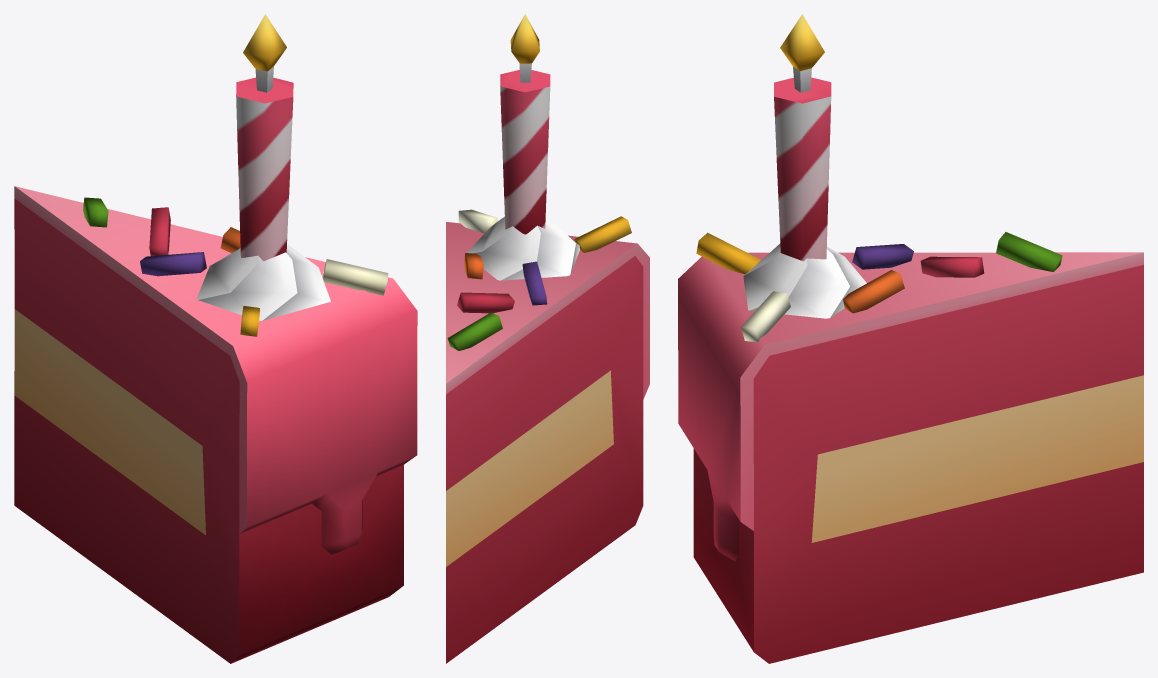
File: m_BirthdayCake02_Slice03.fbx
3 views of the same model, side by side, from view 1: azimuth 30°, elevation 25°; view 2: azimuth 150°, elevation 25°; view 3: azimuth 270°, elevation 25° (orthographic). The views are drawn at different scales.
Parts seen in each view (by area): view 1: m_BirthdayCake02_Slice03; view 2: m_BirthdayCake02_Slice03; view 3: m_BirthdayCake02_Slice03.
Part boxes in pixels (<box>): m_BirthdayCake02_Slice03: <box>14,14,417,663</box>; m_BirthdayCake02_Slice03: <box>446,14,649,663</box>; m_BirthdayCake02_Slice03: <box>678,14,1143,663</box>.
Size of the model in its own units: 7.24 by 20.5 by 14.48.
